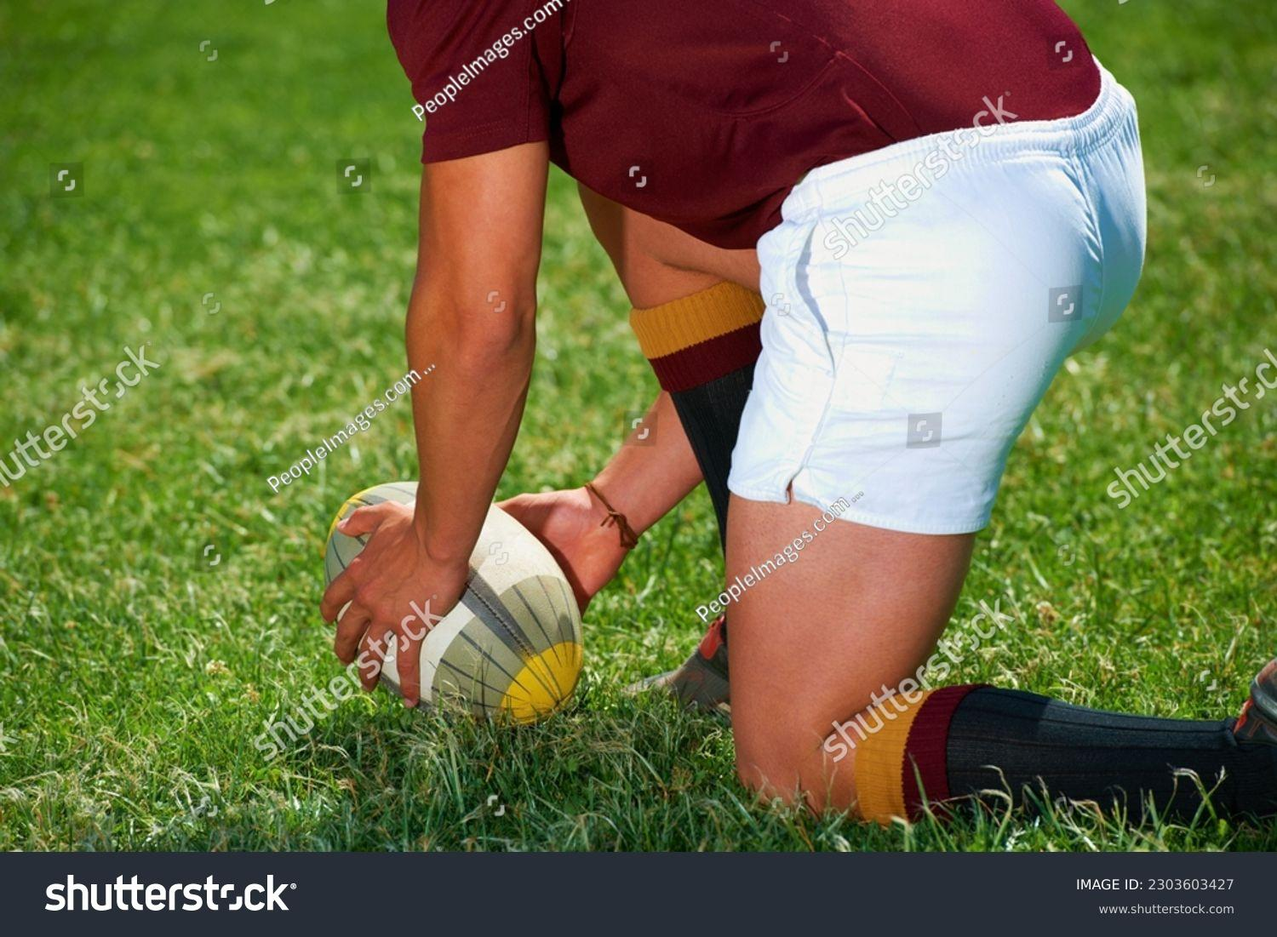ballon_rugby: (320, 473, 590, 737)
